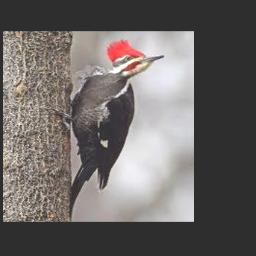Woodpecker: (46, 40, 163, 220)
